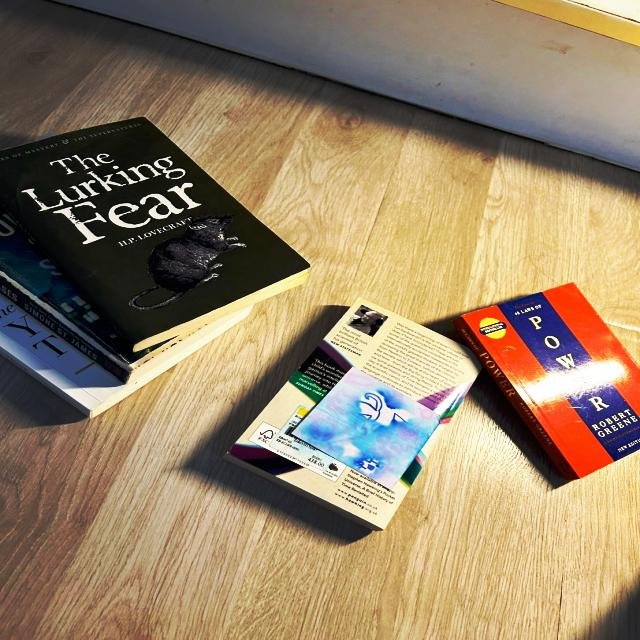Book: (0, 117, 308, 352), (219, 299, 485, 531), (0, 214, 255, 386), (454, 284, 639, 480), (0, 300, 237, 421)
